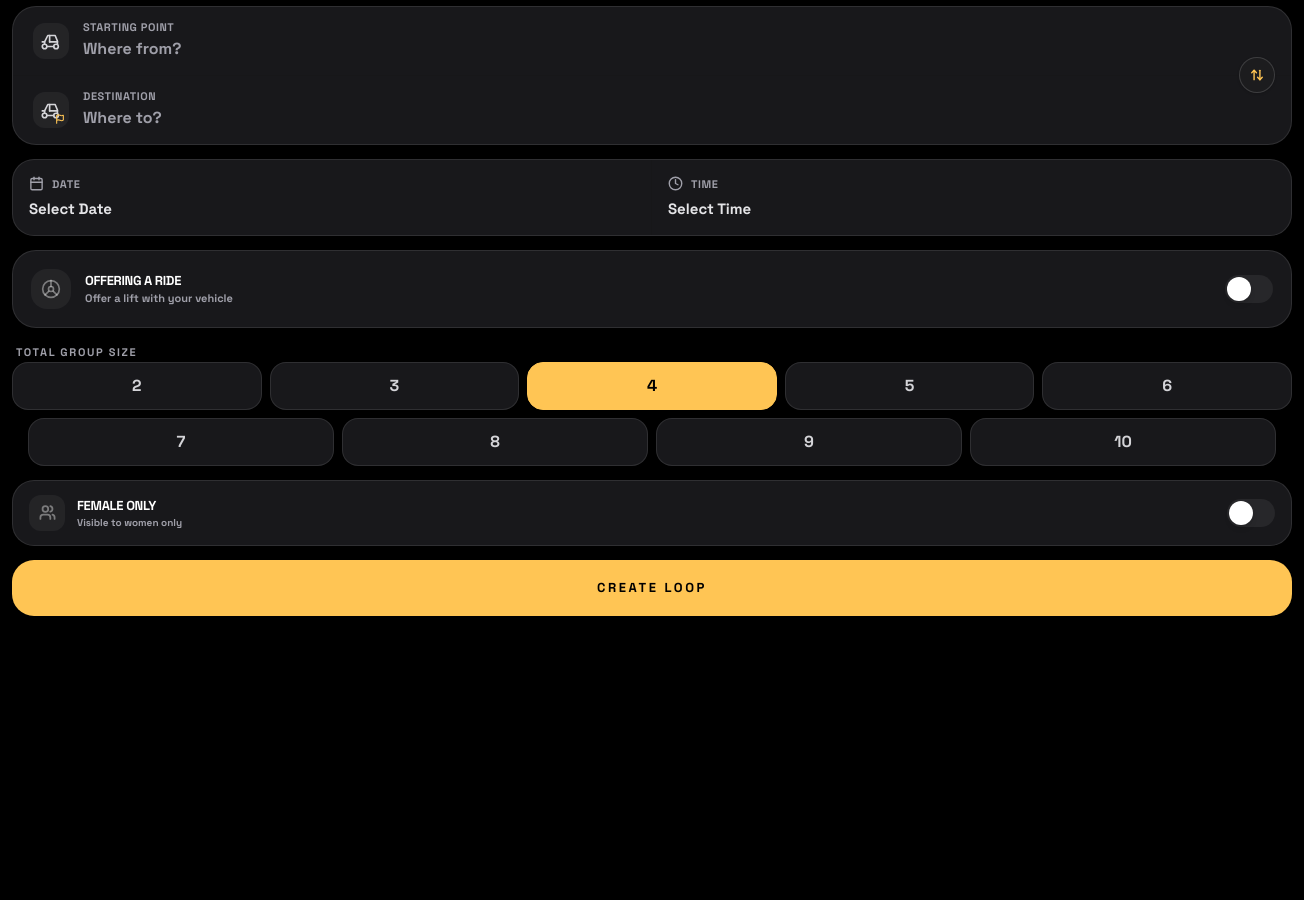
Test case: CreateView Component › switches to Offering a Ride mode and displays Scooter, Bike, and Car options
The width and height of the screenshot is (1304, 900).
Toggle "Offering a Ride" switch
Click the switch named "offering a ride": (1249, 289) [1225, 275, 1273, 303]
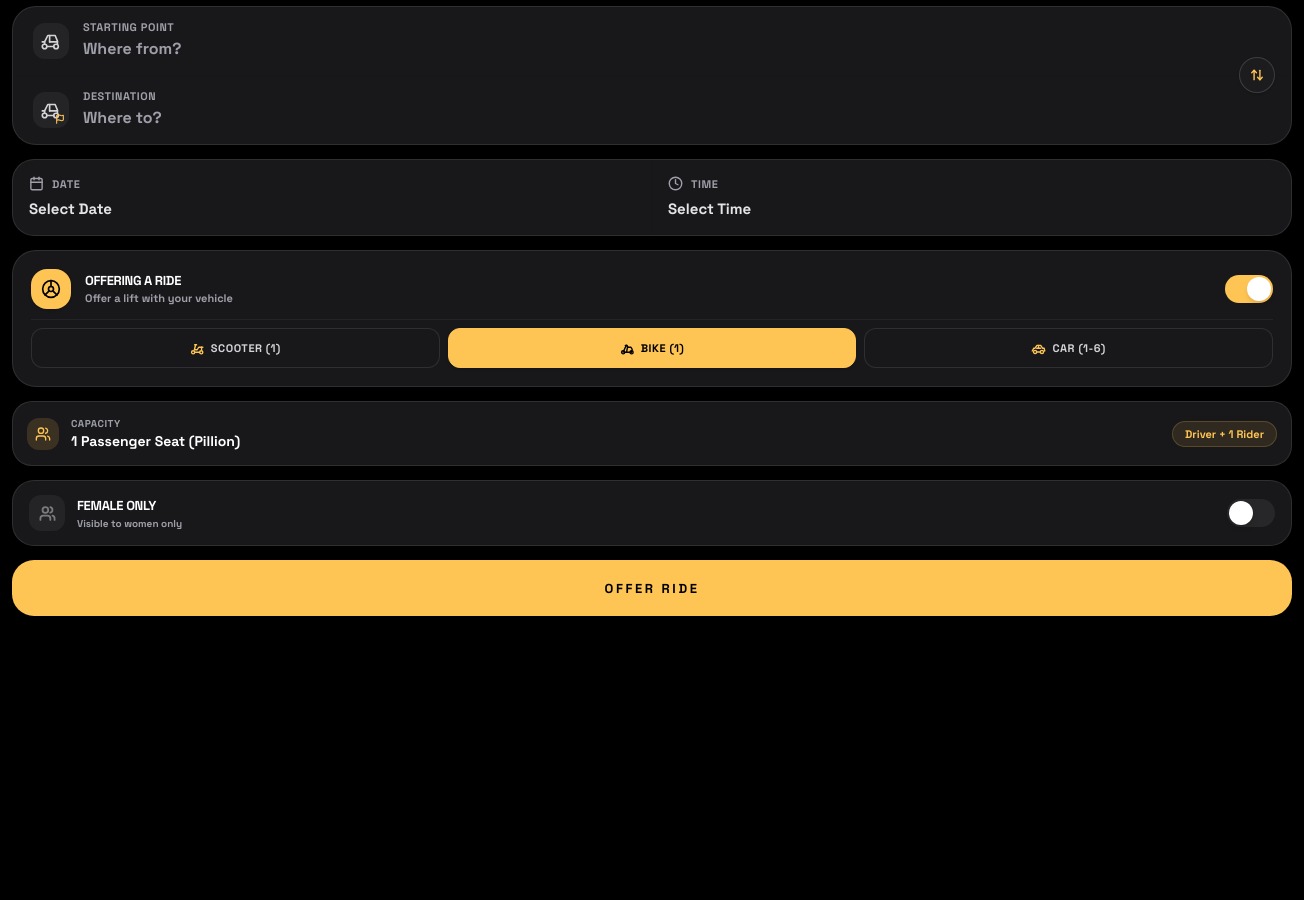
expect the text "Scooter (1)" is shown: met, box [211, 341, 281, 356]
expect the text "Bike (1)" is shown: met, box [641, 341, 684, 356]
expect the text "Car (1-6)" is shown: met, box [1052, 341, 1106, 356]
